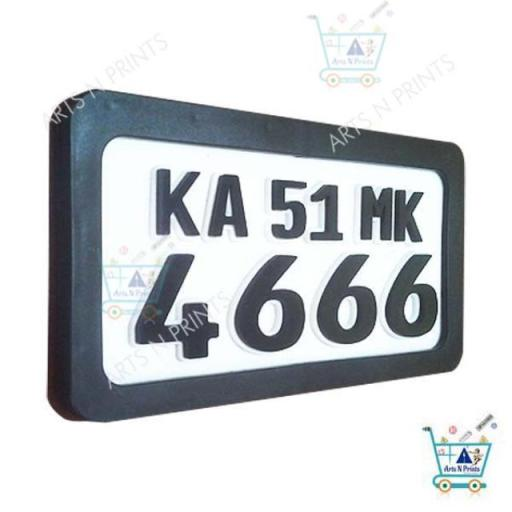number plate: (79, 100, 467, 384)
